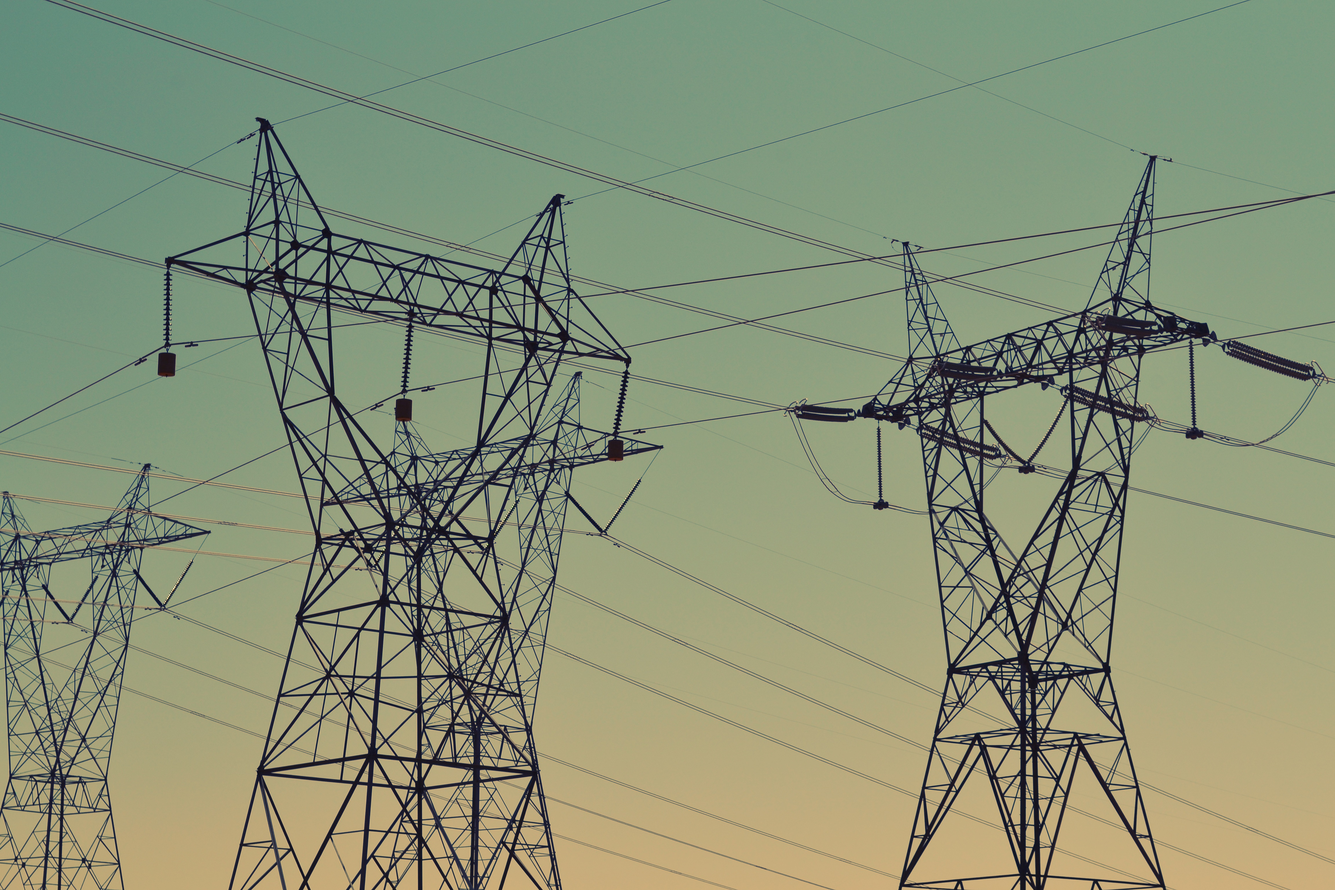insulator: (908, 416, 1013, 465), (1224, 333, 1319, 386), (1057, 383, 1158, 424), (606, 365, 641, 436), (1090, 308, 1158, 344), (788, 394, 856, 429), (927, 351, 1001, 383), (394, 321, 423, 398), (1186, 336, 1203, 431), (871, 422, 890, 503), (159, 263, 176, 349)
